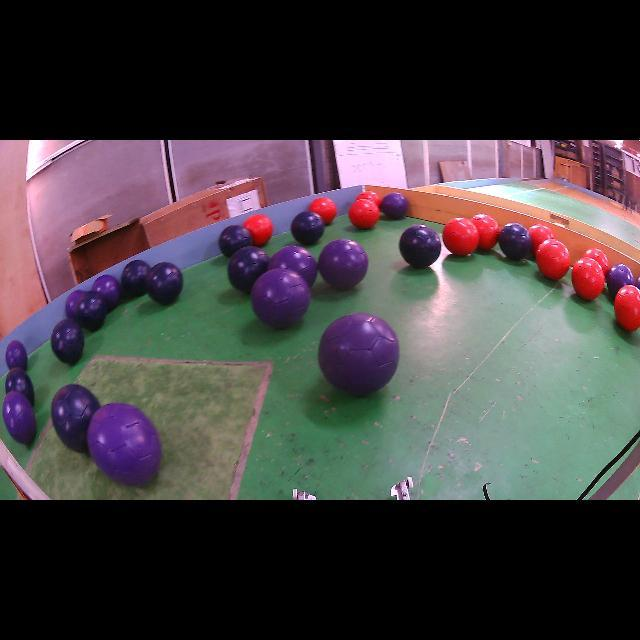B: (51, 384, 100, 452), (228, 246, 269, 294), (399, 224, 441, 269), (146, 262, 182, 305), (51, 319, 84, 364), (498, 222, 532, 261), (75, 291, 106, 331), (291, 211, 325, 245), (5, 368, 35, 405), (219, 225, 252, 258), (121, 260, 150, 296)
P: (319, 312, 399, 396), (88, 402, 161, 486), (251, 269, 311, 328), (318, 239, 369, 290), (268, 245, 318, 287), (2, 391, 36, 444), (91, 275, 121, 311), (606, 264, 635, 299), (380, 192, 409, 219), (5, 340, 28, 370), (65, 290, 85, 319)
R: (571, 258, 605, 300), (442, 218, 480, 255), (536, 239, 570, 280), (614, 285, 640, 331), (470, 214, 500, 249), (244, 214, 274, 246), (349, 199, 380, 229), (529, 224, 554, 255), (309, 198, 338, 224), (582, 249, 610, 274), (356, 191, 381, 206)
